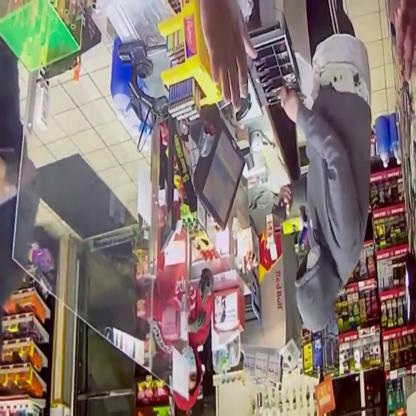Pistol: (266, 183, 290, 238)
